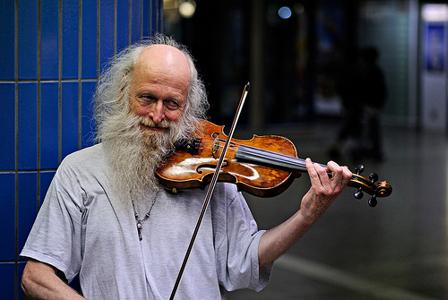person: (21, 38, 349, 300)
